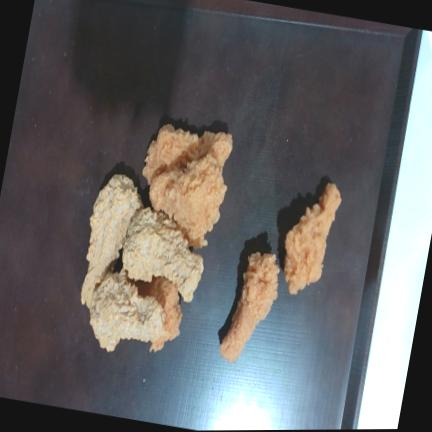chicken: (82, 175, 143, 308), (123, 208, 203, 301), (150, 155, 226, 247), (220, 252, 280, 361), (284, 184, 341, 294), (90, 270, 166, 351)
